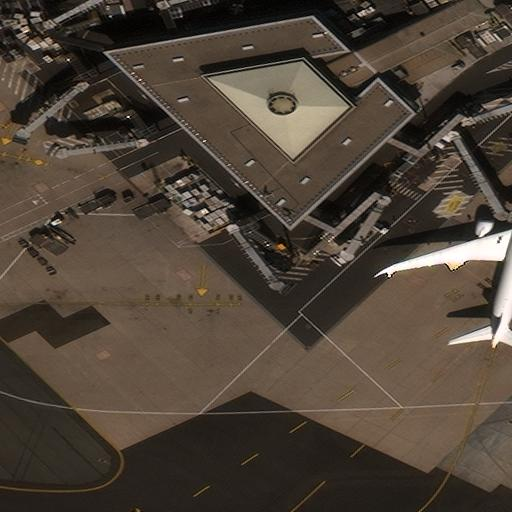Large Civil Transport: (393, 187, 511, 347)
